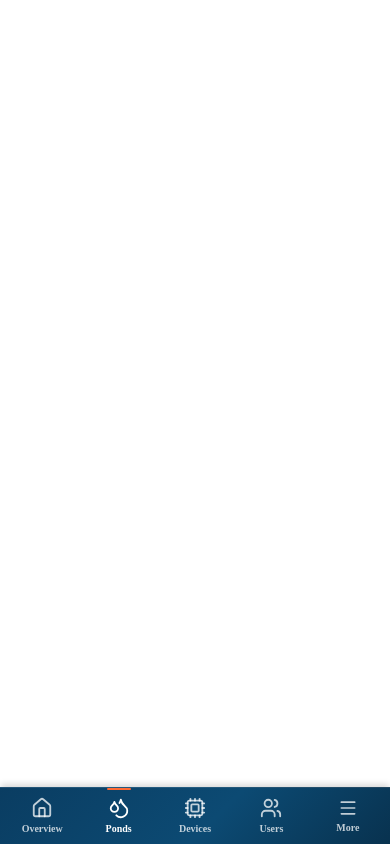
console bottom bars keep every destination › admin More lists every remaining section
This screenshot has width=390, height=844.
Click the button with aria-label "More sections".
click(348, 816)  # box [310, 788, 386, 843]
(page scrolled)
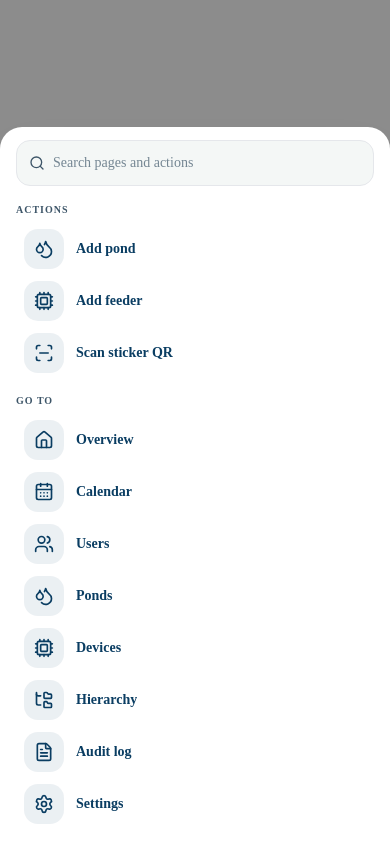
Now the dialog "Quick menu" is shown
Now the text "Calendar" is shown, box [76, 482, 132, 502]
Now the text "Hierarchy" is shown, box [76, 690, 137, 710]
